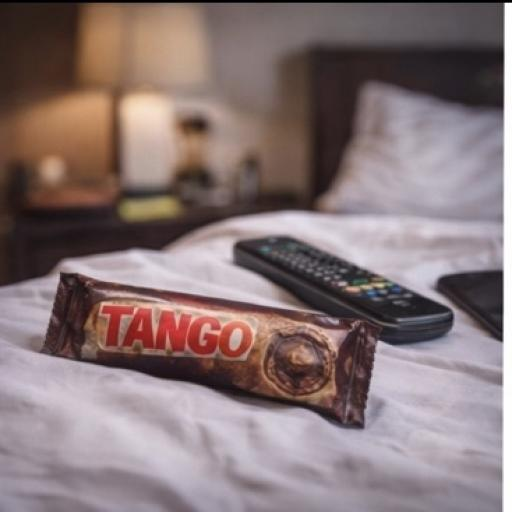tango: (18, 225, 411, 448)
